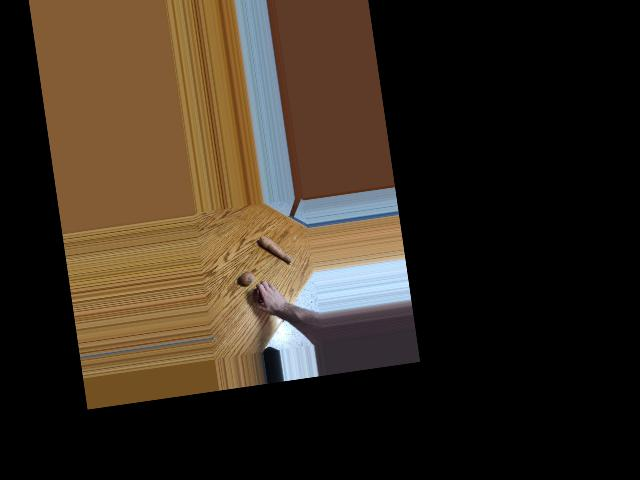onion: (252, 286, 268, 303)
